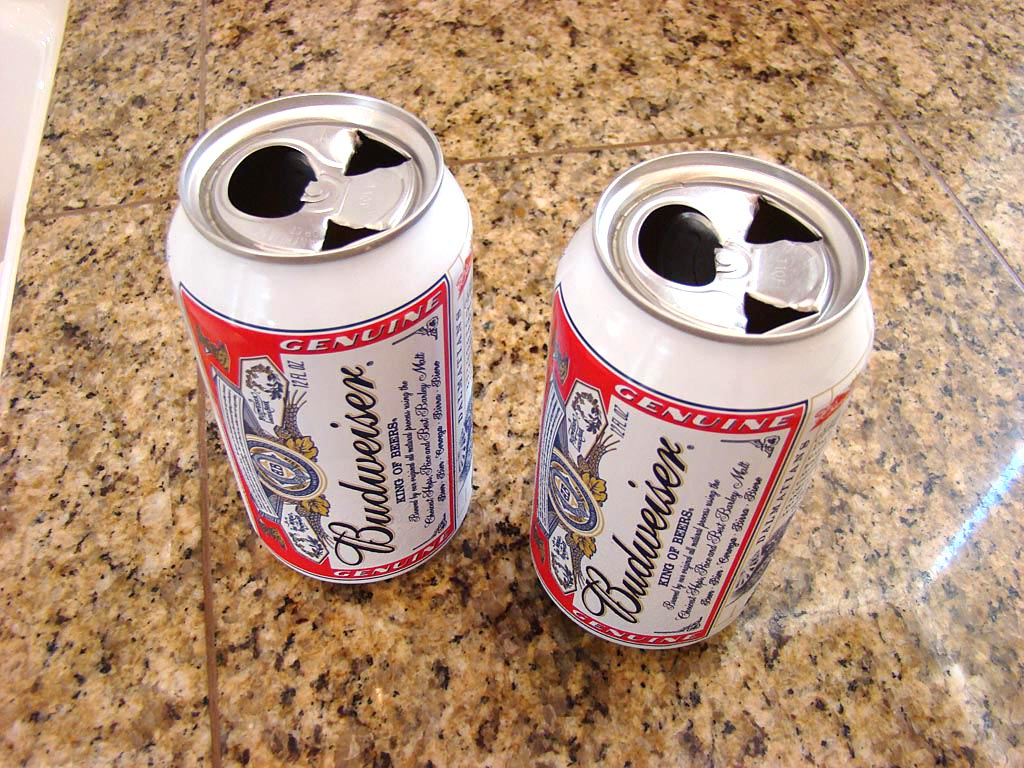beer can: (528, 148, 878, 652), (164, 96, 481, 583)
